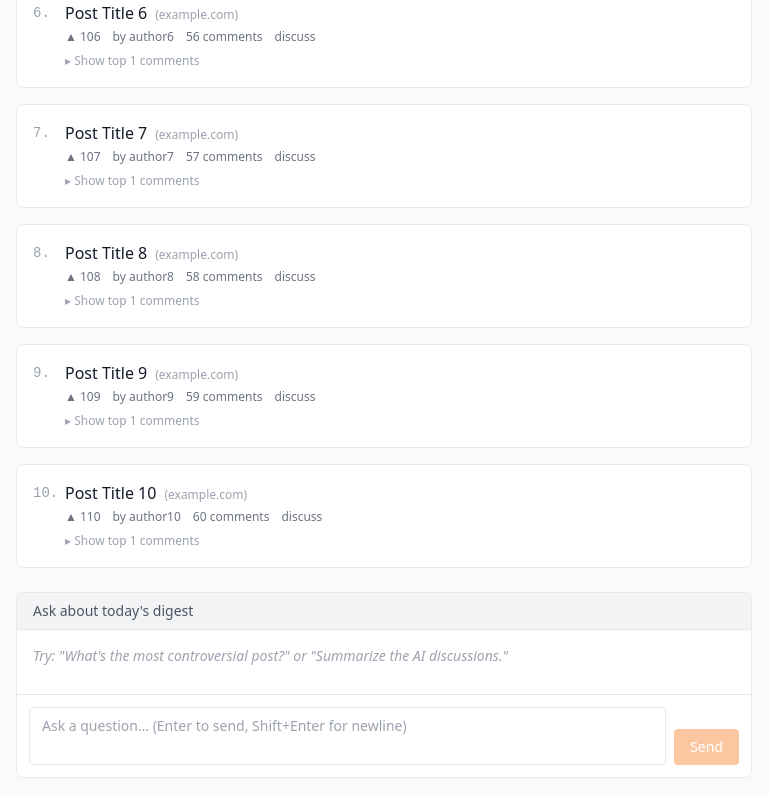
ChatBox (via DigestClient) › Send button becomes enabled when user types a question
This screenshot has width=769, height=795.
(page scrolled)
Type "What is trending?" into the text box with placeholder "Ask a question… (Enter to send, Shift+Enter for newline)".
click(348, 736); type("What is trending?")  # box left=29, top=707, right=666, bottom=765
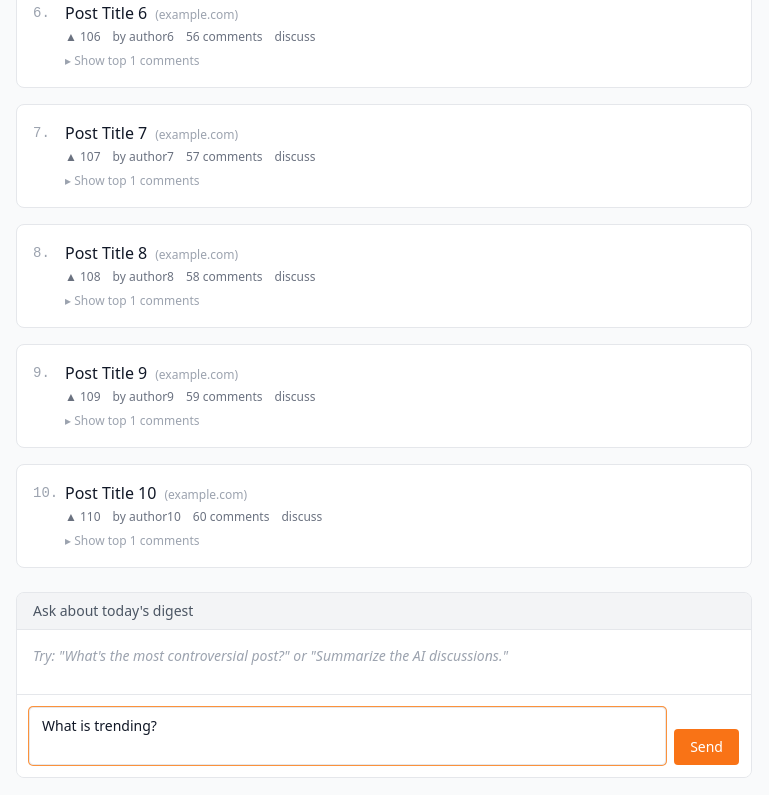
Now the button "Send" is enabled, box left=674, top=729, right=739, bottom=765
